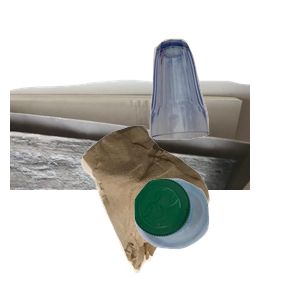glass: (147, 36, 300, 168)
paper: (10, 77, 250, 257)
plastic: (132, 176, 300, 300)
trash: (79, 123, 281, 300)
